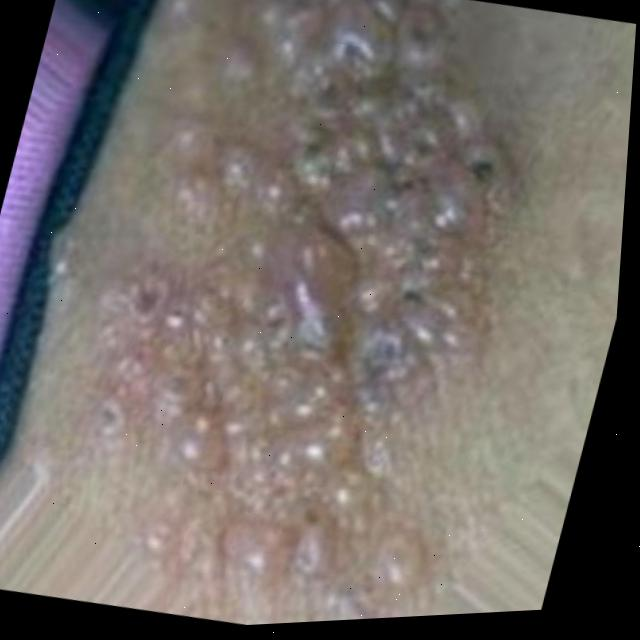Shingles: (69, 0, 546, 563)
